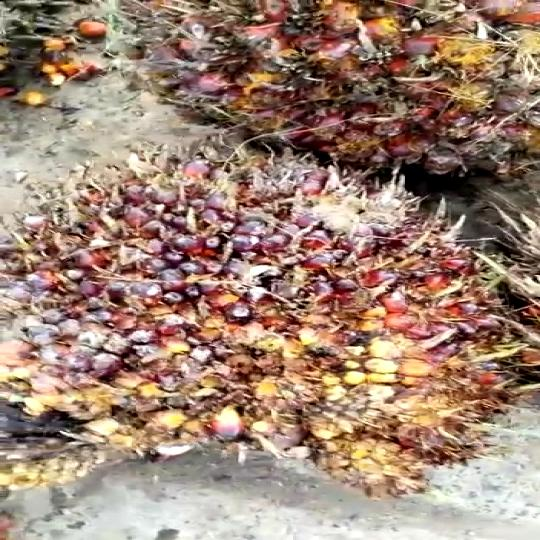masak: (0, 144, 540, 503), (117, 0, 540, 192)
